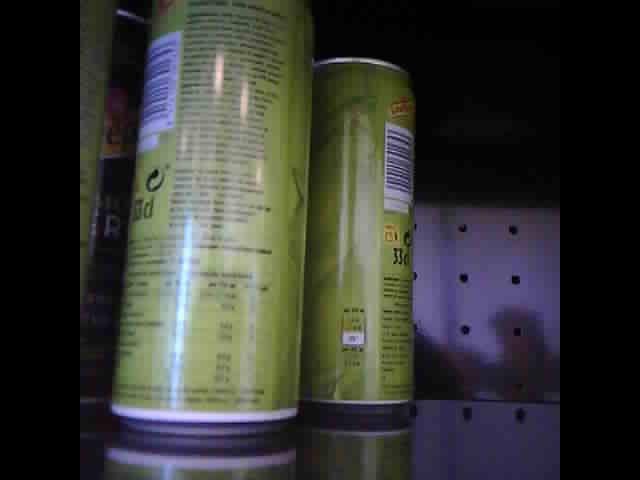schweppes: (104, 7, 317, 450), (302, 49, 421, 415)
